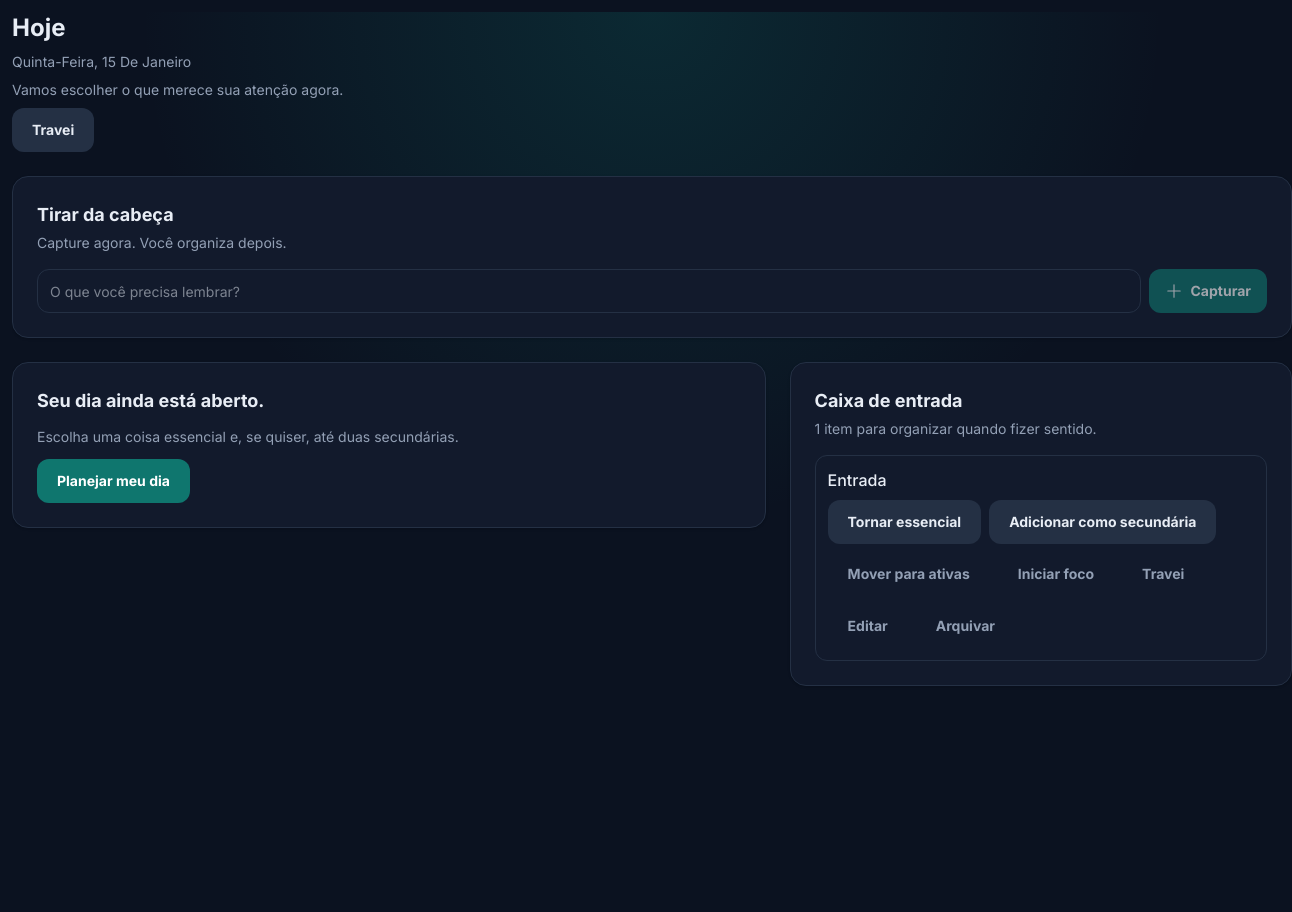
Today screen › inbox › moves a planned inbox item out of the inbox
Expected: the heading "Hoje" is shown, [12,13,66,42]
Click the button "Tornar essencial" at (904, 522), box [828,500,981,544]
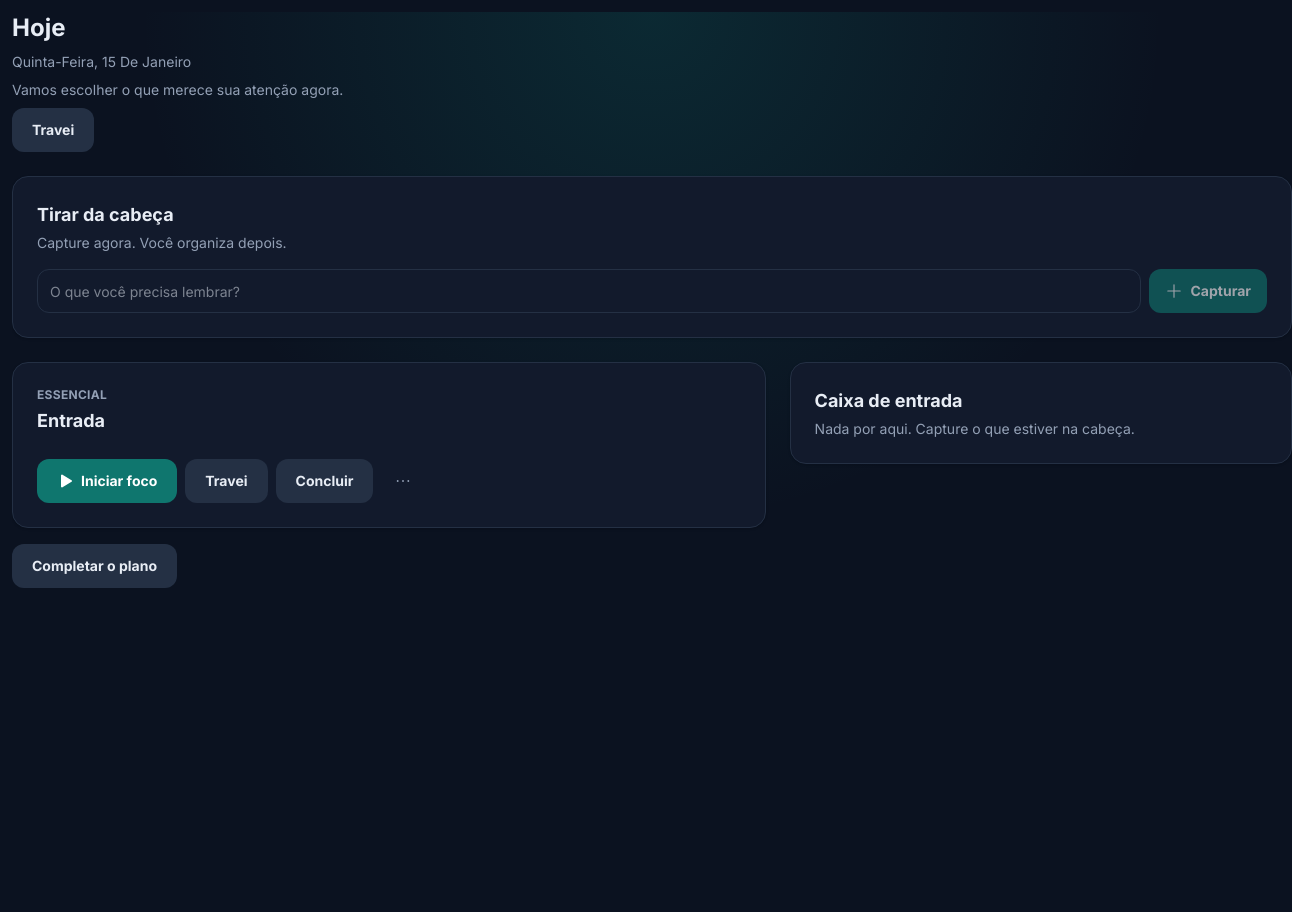
Expected: the text "Essencial" is shown, [37,387,107,403]
Expected: the text "Nada por aqui. Capture o que estiver na cabeça." is shown, [815,420,1135,437]
